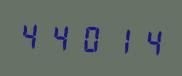four: (47, 17, 75, 55), (18, 16, 46, 53), (134, 22, 162, 59)
one: (105, 20, 133, 58)
zero: (76, 19, 104, 56)
